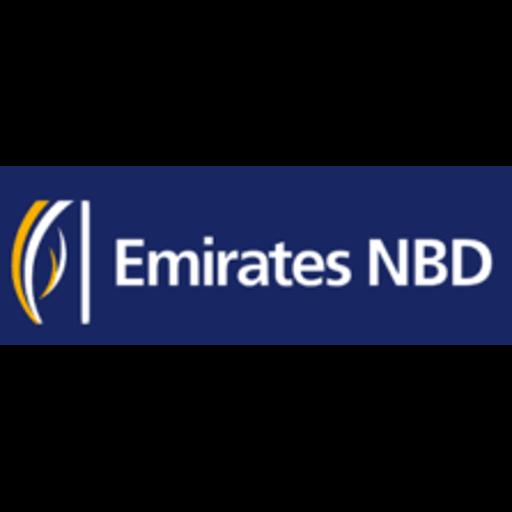Emirates NBD: (0, 166, 512, 345)
